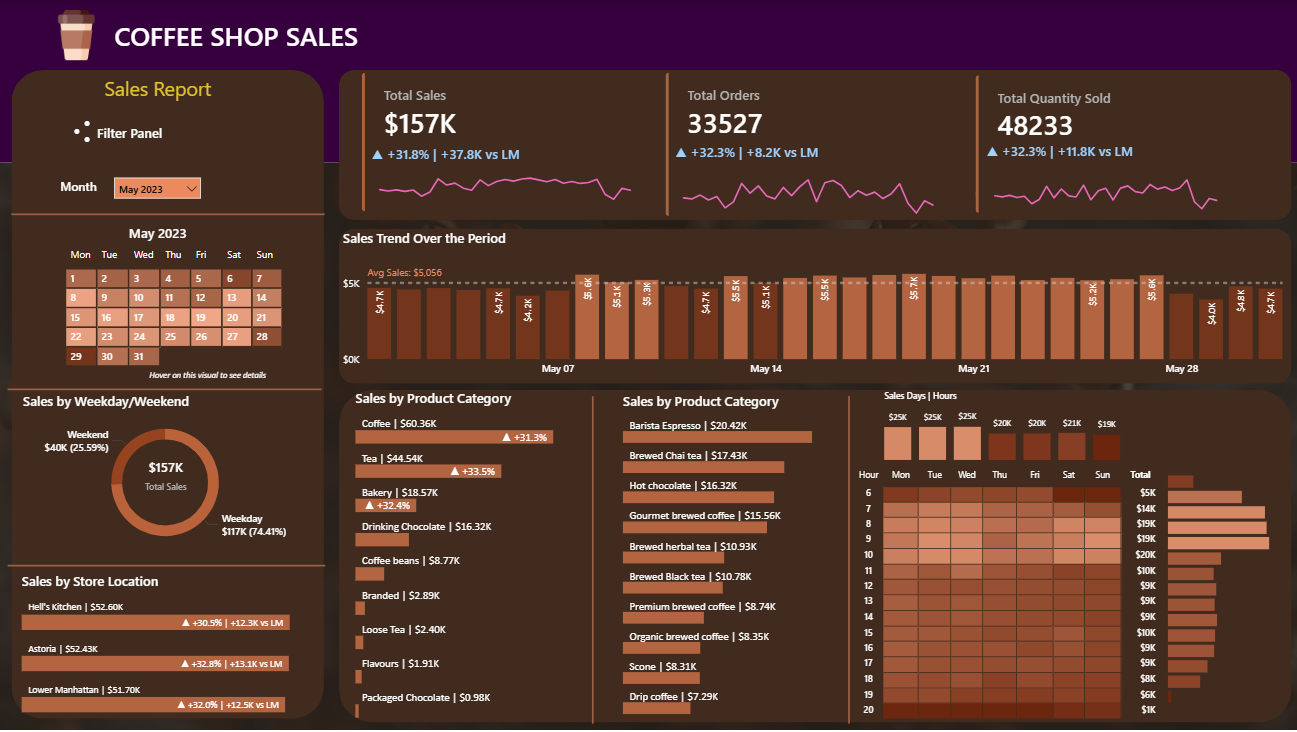

The page's visual inventory and layout, read from the dashboard file:
{"tool":"powerbi","page":{"name":"Dashboar","canvas":[1600,900],"ordinal":0},"visuals":[{"type":"shape","box":[0,0,1599.7,199.4],"z":0},{"type":"cardVisual","fields":{"Data":["Transactions.Total Orders"]},"box":[812.9,84.4,345.2,186.2],"z":0,"group":"g2"},{"type":"shape","box":[15.3,85.9,383.4,796],"z":1000},{"type":"lineChart","fields":{"Category":["Date Table.Date Hierarchy.Date"],"Y":["Transactions.Total Orders"]},"box":[825.8,174.9,335.9,93.6],"z":1000,"group":"g2"},{"type":"shape","box":[417.2,85.9,1168.7,184.1],"z":2000},{"type":"textbox","box":[136.5,16.9,320.6,56.7],"z":3000},{"type":"image","box":[53.7,12.3,82.8,61.4],"z":4000},{"type":"slicer","fields":{"Values":["Date Table.Month Year"]},"box":[136.5,213.2,116.6,42.9],"z":5000},{"type":"group","id":"g1","title":"Group 1","box":[440.2,84.4,350,180.4],"z":6000},{"type":"cardVisual","fields":{"Data":["Transactions.Total Sales"]},"box":[440.2,84.4,350,180],"z":6000,"group":"g1"},{"type":"cardVisual","fields":{"Data":["Transactions.Total Quantity Sold"]},"box":[1192.9,87.9,349.7,179.4],"z":6000,"group":"g3"},{"type":"group","id":"g2","title":"Group 2","box":[812.9,84.4,348.2,185.6],"z":7000},{"type":"lineChart","fields":{"Category":["Date Table.Date Hierarchy.Date"],"Y":["Transactions.Total Quantity Sold"]},"box":[1206.7,173.8,302.1,93.6],"z":7000,"group":"g3"},{"type":"lineChart","fields":{"Category":["Date Table.Date Hierarchy.Date"],"Y":["Transactions.Total Sales"]},"box":[452.2,177.4,337.4,87.4],"z":7000,"group":"g1"},{"type":"group","id":"g3","title":"Group 3","box":[1192.9,87.9,349.7,179.4],"z":8000},{"type":"pivotTable","fields":{"Rows":["Date Table.Week Number"],"Columns":["Date Table.Day Name"],"Values":["Min(Date Table.Day Number)"]},"box":[53.2,296.7,308.7,180.1],"z":9000},{"type":"card","fields":{"Values":["Min(Date Table.Month Year)"]},"box":[149.2,271,92.6,34.3],"z":10000},{"type":"card","fields":{"Values":["Transactions.Foot Note"]},"box":[161.2,449.4,190.4,27.4],"z":11000},{"type":"shape","box":[10.7,470.9,385,13.8],"z":12000},{"type":"shape","box":[15.4,255.6,384.2,13.7],"z":13000},{"type":"shape","box":[10.7,687.1,389.6,13.8],"z":14000},{"type":"donutChart","title":"Sales by Weekday/Weekend","fields":{"Y":["Transactions.Total Sales"],"Category":["Date Table.Weekday / Weekend"]},"box":[24.5,480.1,358.9,202.5],"z":15000},{"type":"card","fields":{"Values":["Transactions.Total Sales"]},"box":[154.9,552.2,99.7,59.8],"z":16000},{"type":"clusteredBarChart","title":"Sales by Store Location","fields":{"Category":["Transactions.store_location"],"Y":["Transactions.Placeholder","Transactions.Total Sales"]},"box":[23,700.9,368.1,181],"z":17000},{"type":"shape","box":[417.2,280.7,1168.7,190.2],"z":18000},{"type":"columnChart","title":"Sales Trend Over the Period ","fields":{"Y":["Transactions.Total Sales"],"Category":["Transactions.transaction_date"]},"box":[417.2,280.7,1168.7,190.2],"z":19000},{"type":"shape","box":[417.2,478.5,1168.7,408],"z":20000},{"type":"clusteredBarChart","title":"Sales by Product Category","fields":{"Y":["Transactions.Placeholder","Transactions.Total Sales"],"Category":["Transactions.product_category"]},"box":[432.5,477,285.3,409.5],"z":21000},{"type":"clusteredBarChart","title":"Sales by Product Category","fields":{"Y":["Transactions.Placeholder","Transactions.Total Sales"],"Category":["Transactions.product_type"]},"box":[760.7,480.1,277.6,401.8],"z":22000},{"type":"shape","box":[1032.2,486.2,21.5,401.8],"z":23000},{"type":"shape","box":[717.8,486.2,21.5,401.8],"z":24000},{"type":"pivotTable","fields":{"Rows":["Transactions.Hour"],"Columns":["Date Table.Day Name"],"Values":["Transactions.Total Sales"]},"box":[1044.5,570.6,395.7,317.5],"z":25000},{"type":"barChart","fields":{"Y":["Transactions.Total Sales"],"Category":["Transactions.Hour"]},"box":[1429.5,570.6,136.5,297.5],"z":26000},{"type":"columnChart","title":"Sales Days | Hours","fields":{"Category":["Date Table.Day Name"],"Y":["Transactions.Total Sales"]},"box":[1081.3,478.5,300.6,92],"z":27000},{"type":"textbox","box":[58.3,213.2,78.2,30.7],"z":28000},{"type":"textbox","box":[108.9,87.4,171.8,42.9],"z":29000},{"type":"textbox","box":[95.1,147.2,130.4,38.3],"z":30000},{"type":"textbox","box":[69,112,81.3,87.4],"z":31000}]}

Visuals, with their boxes in screenshot pixels (x1, y1, x2, y2), scaled from the page's 1600x900 canvas onto the 1297x732 screenshot:
shape: (0, 0, 1296, 162)
cardVisual - Transactions.Total Orders: (659, 69, 939, 220)
shape: (12, 70, 323, 717)
lineChart - Date Table.Date Hierarchy.Date x Transactions.Total Orders: (669, 142, 942, 218)
shape: (338, 70, 1286, 220)
textbox: (111, 14, 371, 60)
image: (44, 10, 111, 60)
slicer - Date Table.Month Year: (111, 173, 205, 208)
"Group 1" group: (357, 69, 641, 215)
cardVisual - Transactions.Total Sales: (357, 69, 641, 215)
cardVisual - Transactions.Total Quantity Sold: (967, 71, 1250, 217)
"Group 2" group: (659, 69, 941, 220)
lineChart - Date Table.Date Hierarchy.Date x Transactions.Total Quantity Sold: (978, 141, 1223, 217)
lineChart - Date Table.Date Hierarchy.Date x Transactions.Total Sales: (367, 144, 640, 215)
"Group 3" group: (967, 71, 1250, 217)
pivotTable - Date Table.Week Number x Date Table.Day Name: (43, 241, 293, 388)
card - Min(Date Table.Month Year): (121, 220, 196, 248)
card - Transactions.Foot Note: (131, 366, 285, 388)
shape: (9, 383, 321, 394)
shape: (12, 208, 324, 219)
shape: (9, 559, 324, 570)
"Sales by Weekday/Weekend" donutChart: (20, 390, 311, 555)
card - Transactions.Total Sales: (126, 449, 206, 498)
"Sales by Store Location" clusteredBarChart: (19, 570, 317, 717)
shape: (338, 228, 1286, 383)
"Sales Trend Over the Period " columnChart: (338, 228, 1286, 383)
shape: (338, 389, 1286, 721)
"Sales by Product Category" clusteredBarChart: (351, 388, 582, 721)
"Sales by Product Category" clusteredBarChart: (617, 390, 842, 717)
shape: (837, 395, 854, 722)
shape: (582, 395, 599, 722)
pivotTable - Transactions.Hour x Date Table.Day Name: (847, 464, 1167, 722)
barChart - Transactions.Total Sales x Transactions.Hour: (1159, 464, 1269, 706)
"Sales Days | Hours" columnChart: (877, 389, 1120, 464)
textbox: (47, 173, 111, 198)
textbox: (88, 71, 228, 106)
textbox: (77, 120, 183, 151)
textbox: (56, 91, 122, 162)
